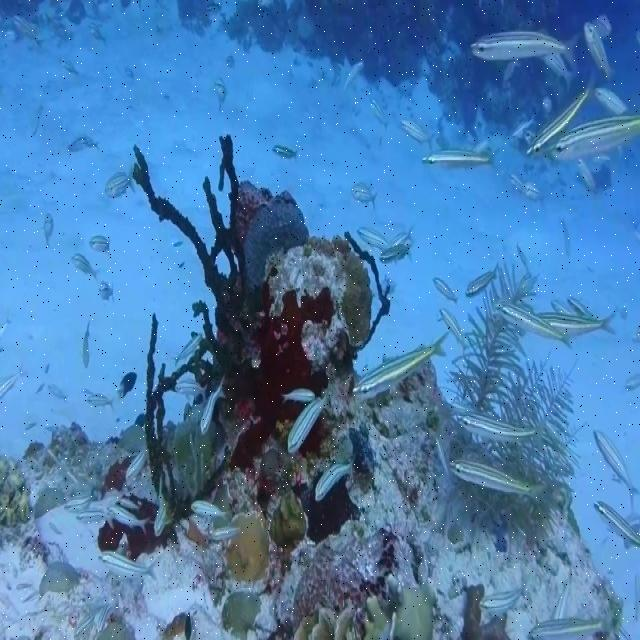fish: (353, 331, 448, 397), (526, 85, 597, 154), (545, 117, 639, 161), (448, 458, 543, 501), (496, 299, 575, 348), (470, 32, 581, 66), (594, 429, 639, 511), (454, 413, 548, 441), (288, 396, 328, 453), (593, 501, 639, 545), (536, 313, 616, 337), (99, 550, 158, 579), (315, 457, 354, 500), (422, 151, 493, 170), (466, 263, 498, 295), (438, 308, 464, 343), (433, 277, 457, 302), (282, 387, 316, 403)
